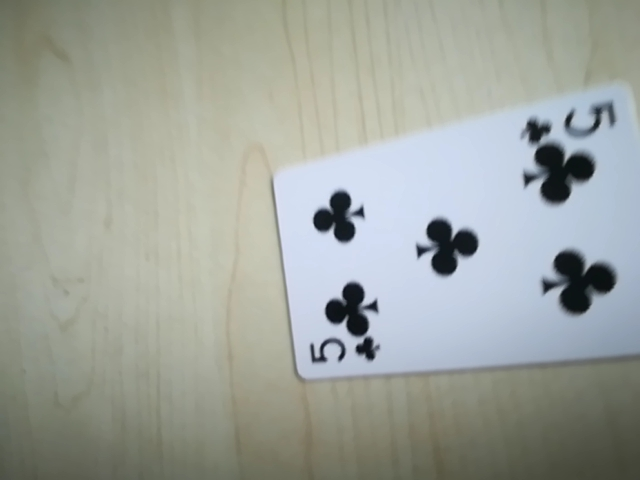mh 5: (521, 99, 619, 144), (305, 332, 384, 372)
